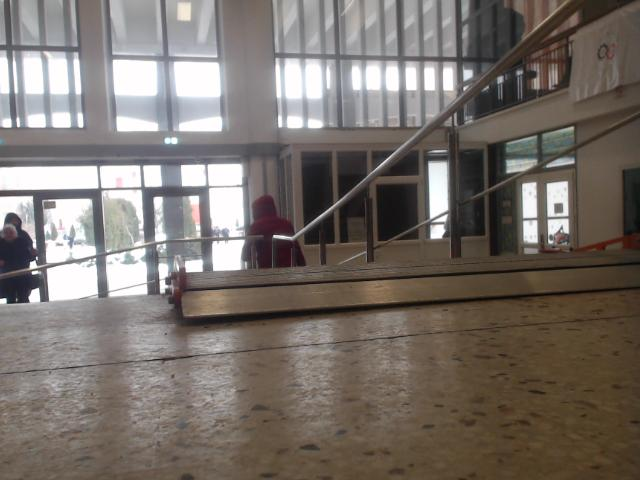rampDown: (179, 251, 639, 318)
ramps-railing: (292, 0, 585, 239), (340, 112, 639, 264), (18, 236, 262, 272), (273, 235, 296, 242)
